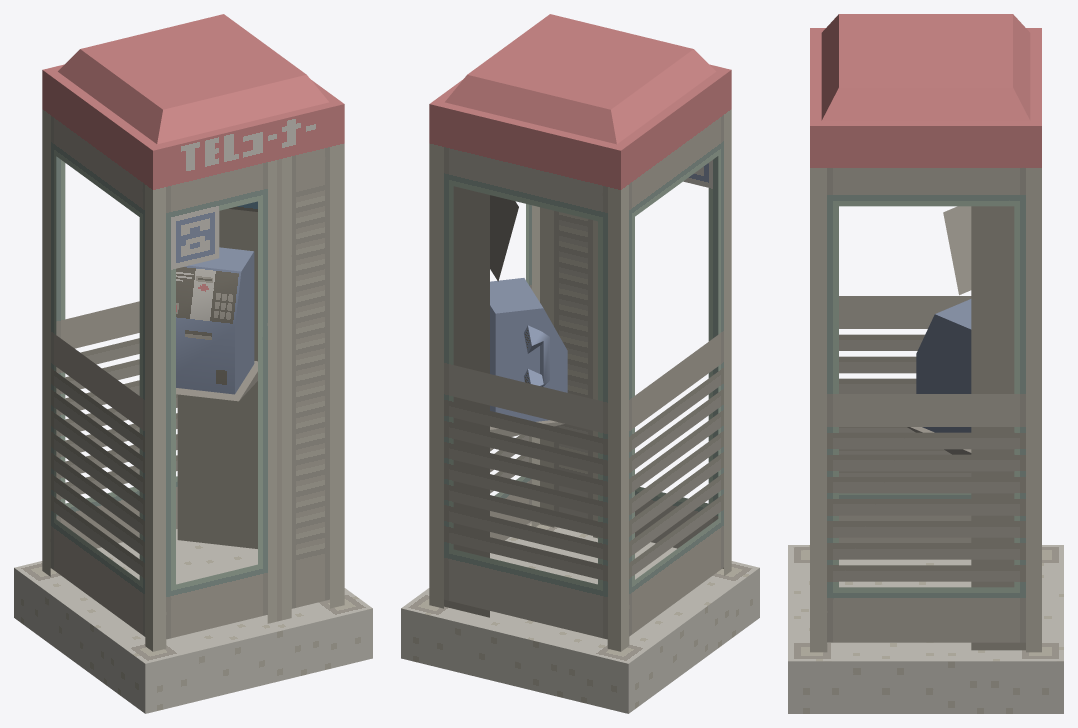
Rendered from 00f9_Phone_Booth.glb.
The picture shows the model from 3 angles, left to right: view 1: azimuth 30°, elevation 25°; view 2: azimuth 150°, elevation 25°; view 3: azimuth 270°, elevation 25°; orthographic projection. The views are drawn at different scales.
Visible parts, largest first — view 1: part_0; view 2: part_0; view 3: part_0.
Boxes of the visible parts, x1=… form: part_0: x1=14, y1=14, x2=372, y2=713; part_0: x1=401, y1=14, x2=759, y2=713; part_0: x1=788, y1=14, x2=1063, y2=713.
Bounding box in the file's own units: 1.04 × 2.53 × 1.04.
1 material, 1 textured.
